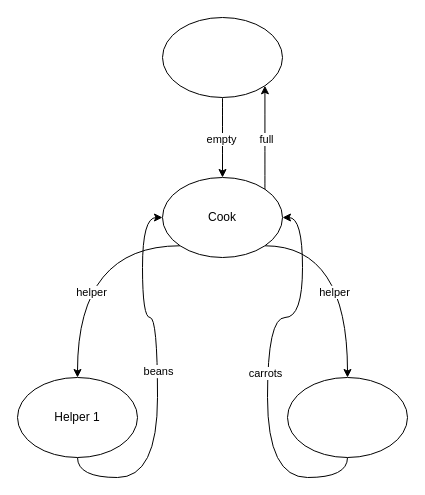
Some shapes in this 425 by 495 pixel diagram are drawn without their labels. The shapes that lost their labels are listed below. From the top down, each one's centre as x and y in pixels, then its label:
the point at 222,57: Customers
the point at 347,417: Helper 2
